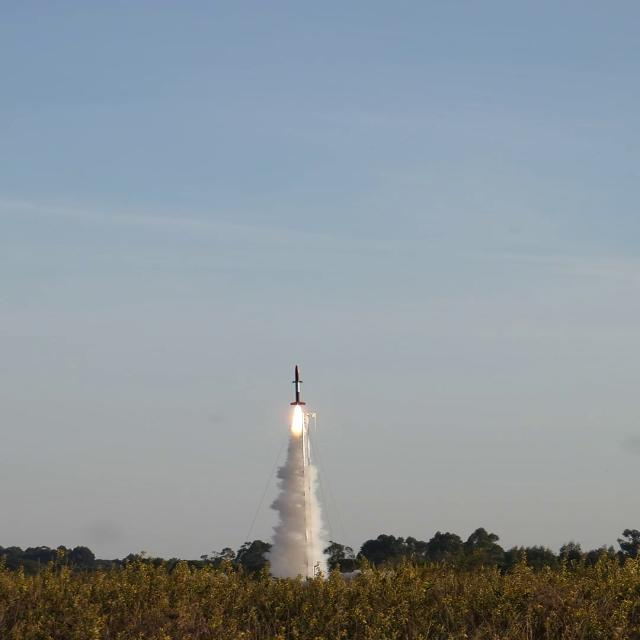Rocket: (290, 365, 306, 405)
